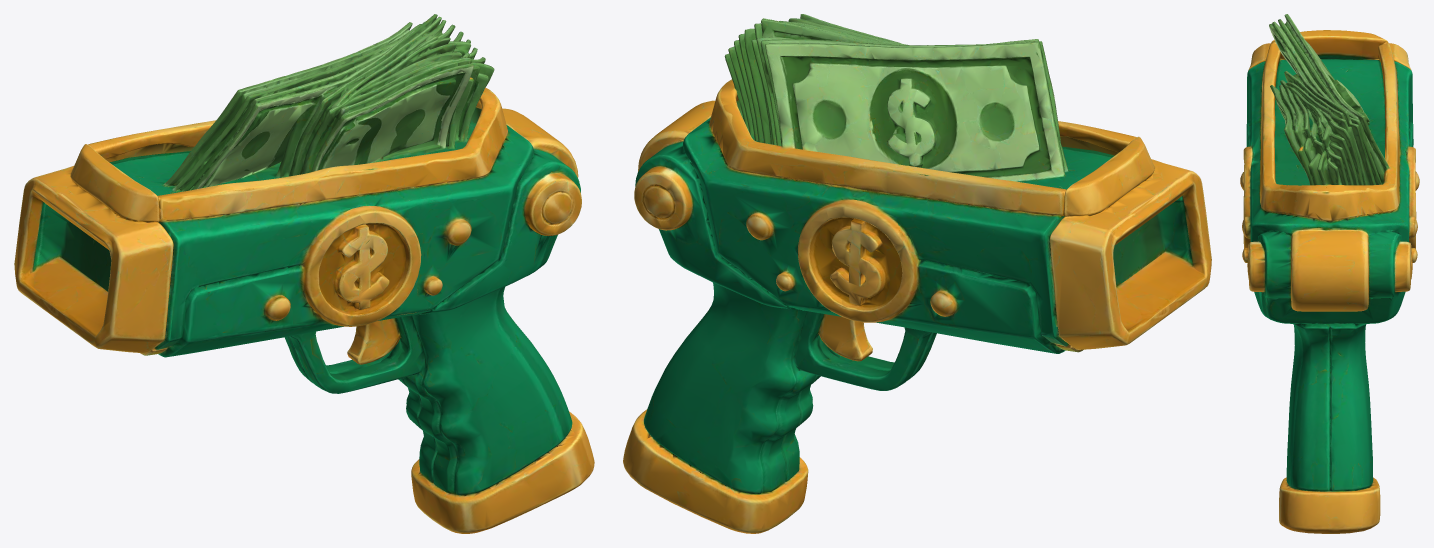
File: money_gun.glb
3 views of the same model, side by side, from view 1: azimuth 30°, elevation 25°; view 2: azimuth 150°, elevation 25°; view 3: azimuth 270°, elevation 25° (orthographic). The views are drawn at different scales.
Bounding box in the file's own units: 1.9 × 1.77 × 0.7087.
Materials: 1 (1 with a texture image).
